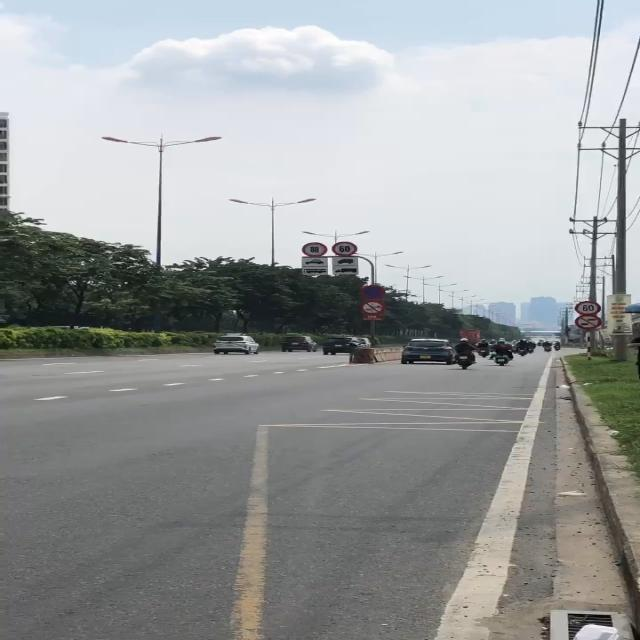Bien bao toc do toi da cho phep: (331, 240, 363, 257), (571, 299, 604, 315), (298, 241, 328, 258)
